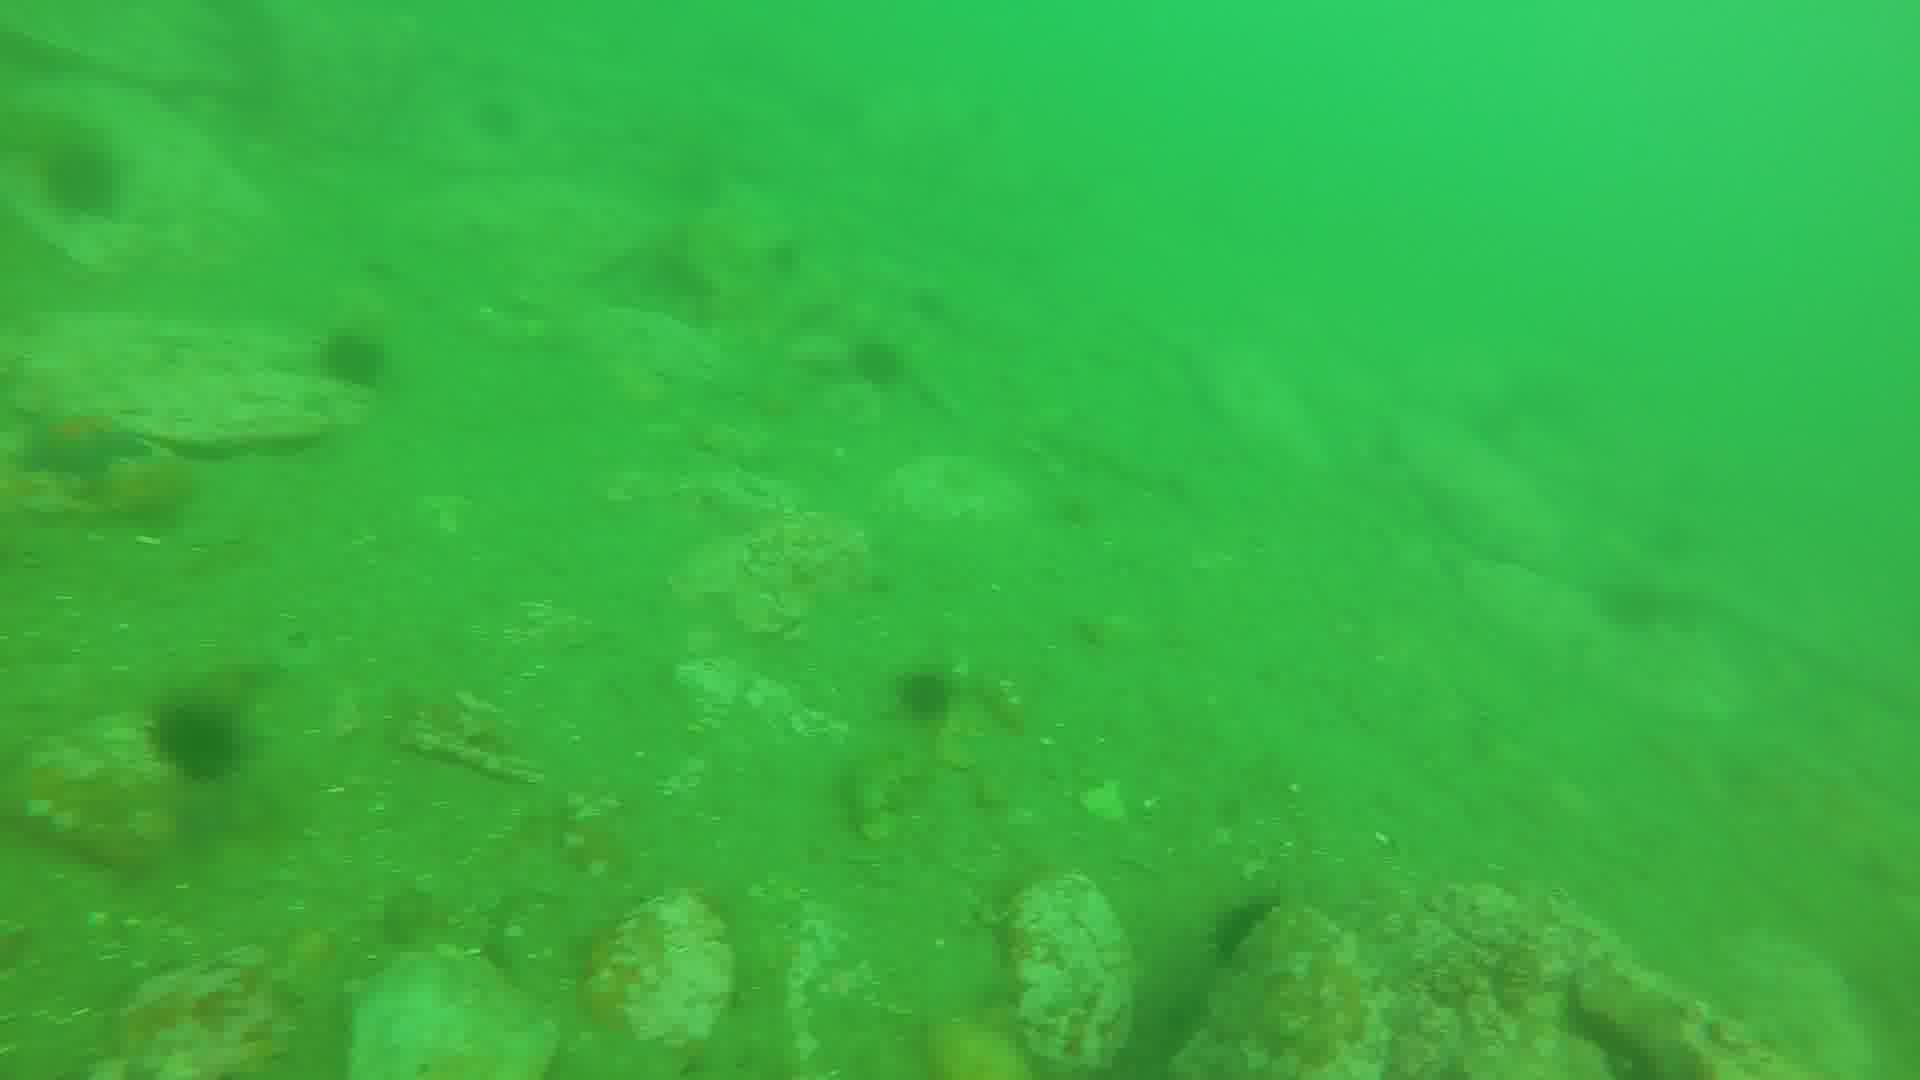echinus: (160, 692, 241, 771), (41, 140, 112, 220), (322, 326, 382, 381), (901, 669, 959, 719), (857, 340, 911, 392)
starfish: (18, 406, 156, 484)
